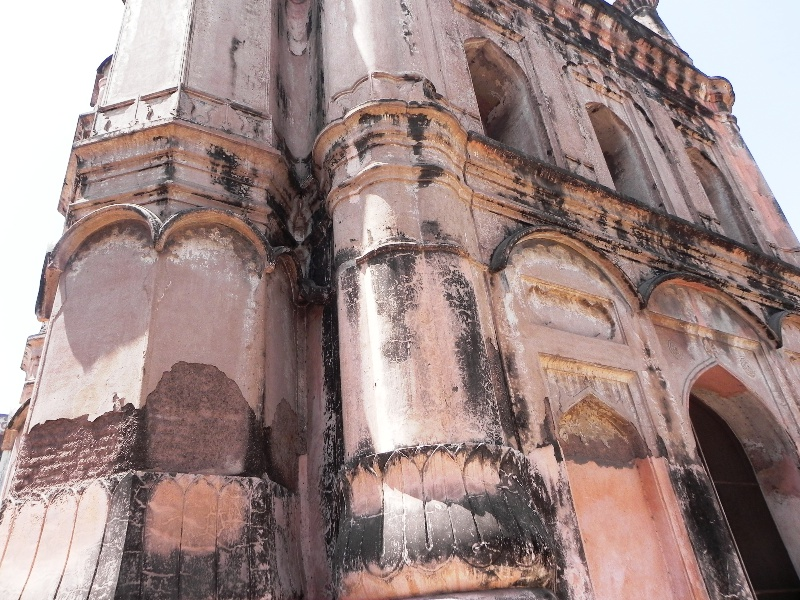Exposed Bricks: (23, 424, 121, 475)
Spalling: (137, 359, 306, 496)
